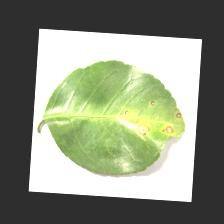canker: (120, 84, 186, 156)
